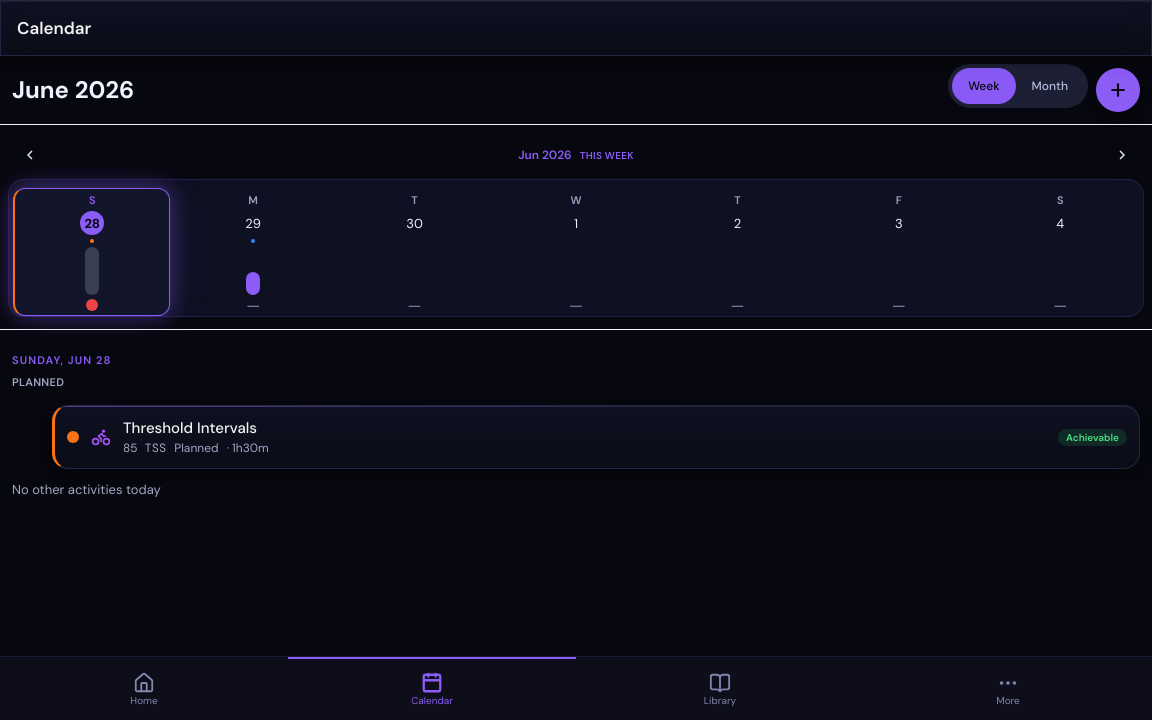
it: Calendar screen › (d) tapping a different day filters the list to that day
The width and height of the screenshot is (1152, 720).
expect the element with test id "day-list" is shown: met, box [12, 353, 1140, 498]
expect the text "Threshold Intervals" is shown: met, box [123, 418, 257, 438]
Click the button "M 29 —" at (253,252), box [174, 188, 332, 316]
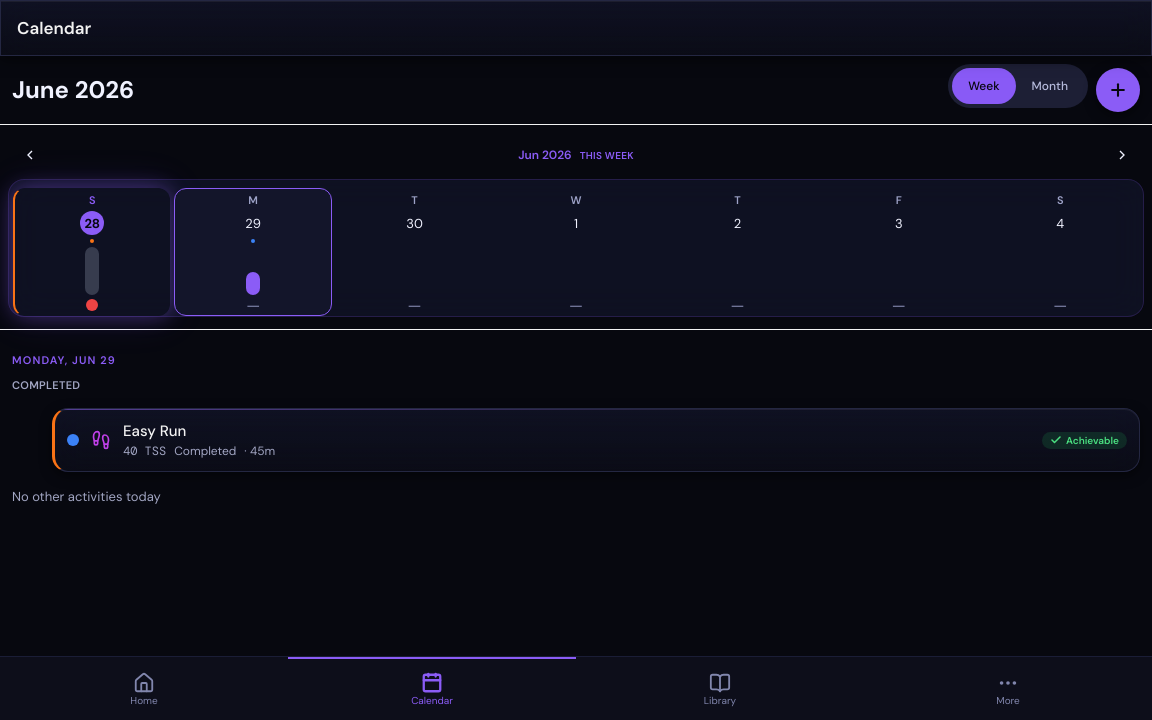
expect the button "Threshold Intervals" is gone: met
